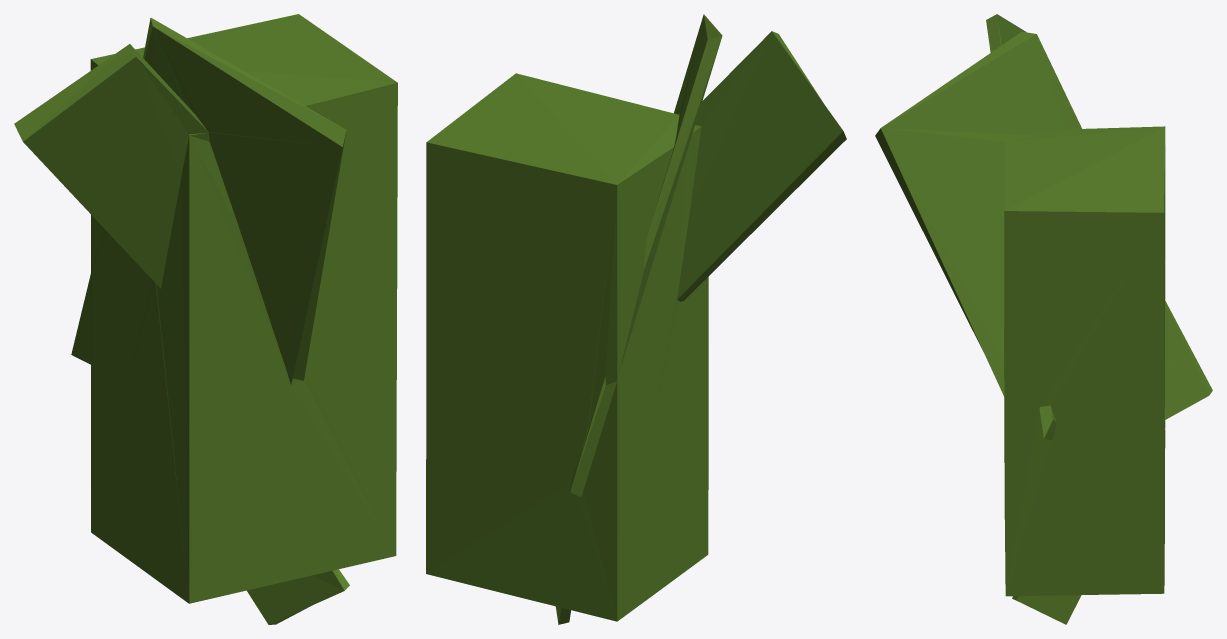
3 renders of one model, left to right at view 1: azimuth 30°, elevation 25°; view 2: azimuth 150°, elevation 25°; view 3: azimuth 270°, elevation 25°, orthographic. The views are drawn at different scales.
Visible parts, largest first — view 1: 834_Cube.3363; view 2: 834_Cube.3363; view 3: 834_Cube.3363.
Part boxes in pixels (x1=…): 834_Cube.3363: x1=14, y1=14, x2=397, y2=624; 834_Cube.3363: x1=426, y1=14, x2=846, y2=624; 834_Cube.3363: x1=875, y1=14, x2=1212, y2=624.
Bounding box in the file's own units: 10.38 × 16.76 × 9.57.
